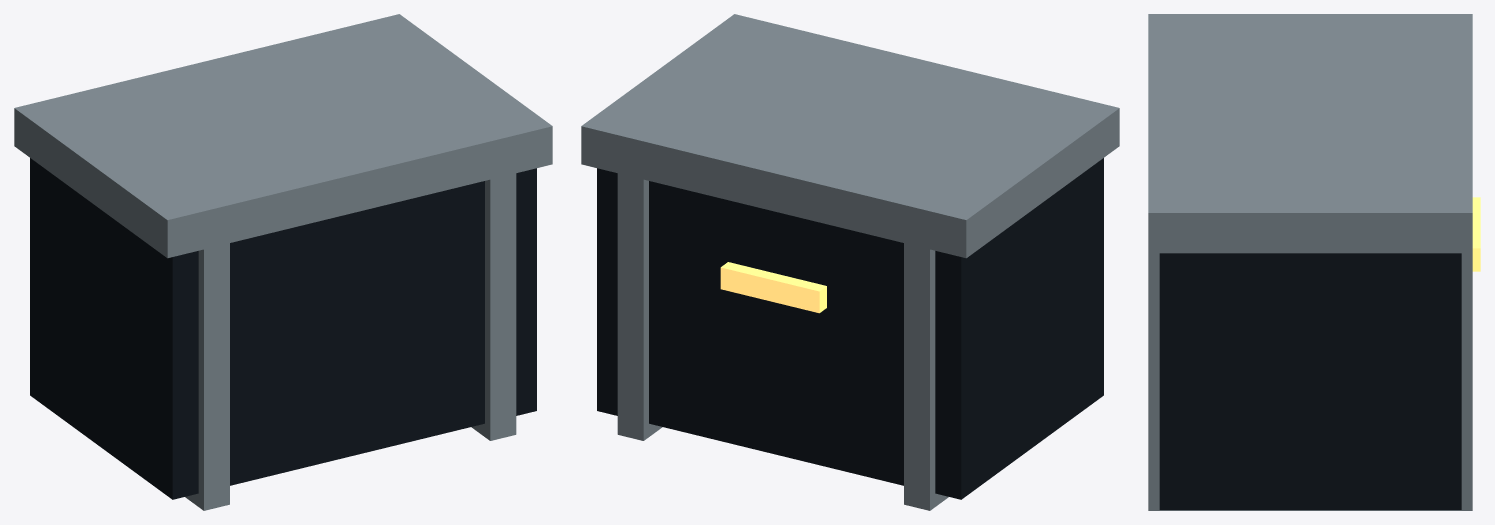
Rendered from np_z06_caisse_aleatoire.glb.
3 views of the same model, side by side, from view 1: azimuth 30°, elevation 25°; view 2: azimuth 150°, elevation 25°; view 3: azimuth 270°, elevation 25° (orthographic). The views are drawn at different scales.
Visible parts, largest first — view 1: Caisson, Capot, Renfort, _MeshInstance3D_2; view 2: Caisson, Capot, _MeshInstance3D_2, Renfort, Voyant; view 3: Capot, Caisson, _MeshInstance3D_2, Voyant.
Part boxes in pixels (bbox=[...]): Caisson: bbox=[30, 158, 536, 499]; Capot: bbox=[14, 14, 552, 258]; Renfort: bbox=[185, 232, 229, 510]; _MeshInstance3D_2: bbox=[471, 170, 516, 440]; Caisson: bbox=[597, 158, 1103, 499]; Capot: bbox=[581, 14, 1119, 258]; _MeshInstance3D_2: bbox=[617, 163, 662, 440]; Renfort: bbox=[904, 233, 948, 510]; Voyant: bbox=[720, 262, 826, 313]; Capot: bbox=[1148, 14, 1472, 253]; Caisson: bbox=[1159, 253, 1461, 509]; _MeshInstance3D_2: bbox=[1148, 253, 1472, 510]; Voyant: bbox=[1472, 197, 1480, 271].
Size of the model in its own units: 1.48 by 1.1 by 1.04.
